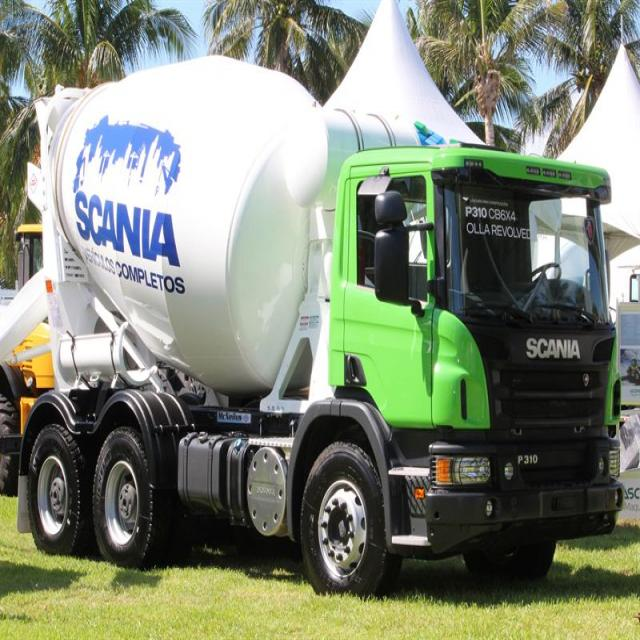Mixer Truck: (17, 55, 624, 598)
